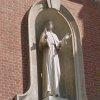Statue: (33, 13, 70, 100)
